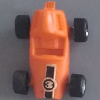naranja_sur: (16, 1, 87, 98)
